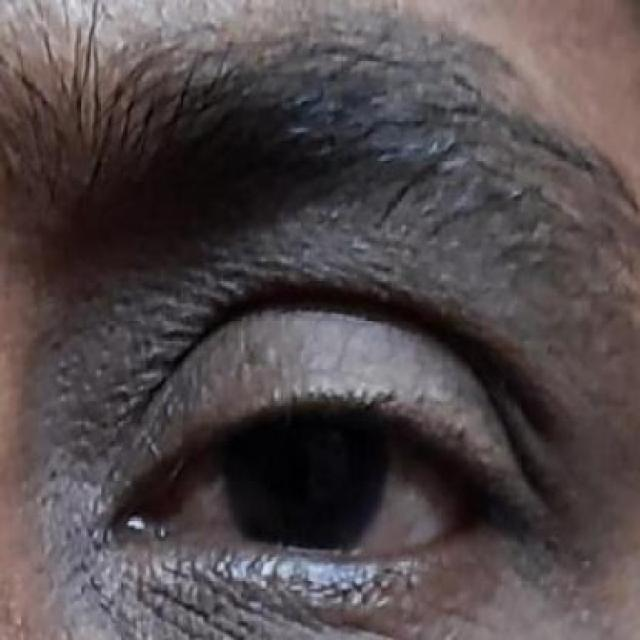awake: (87, 308, 535, 608)
